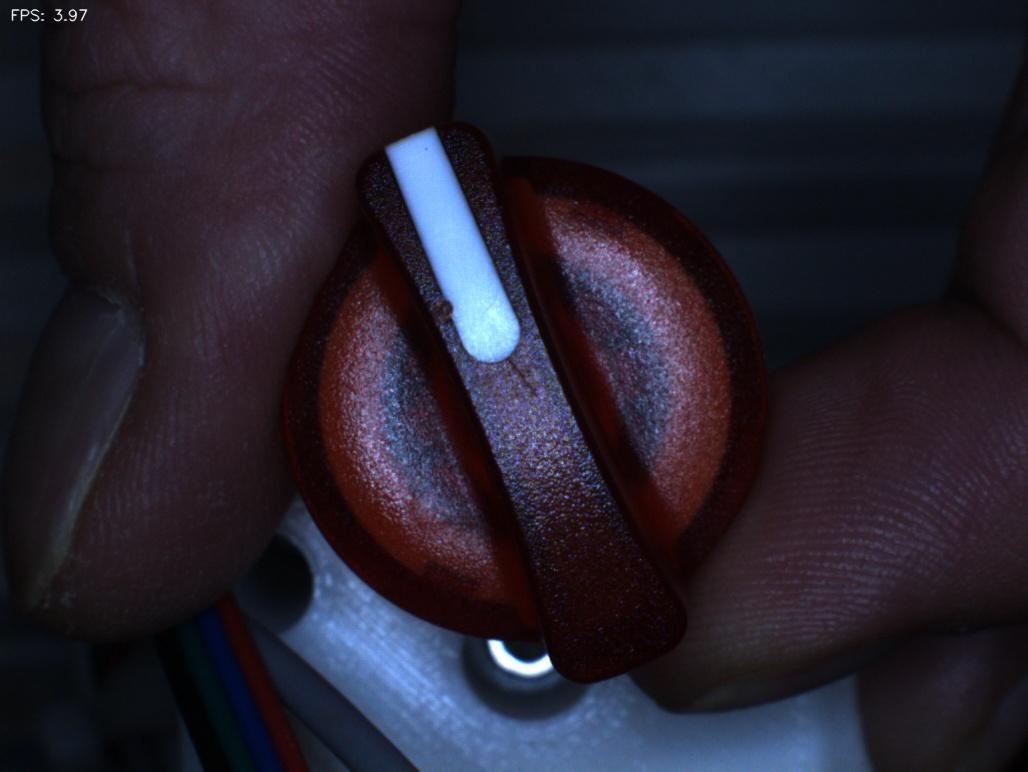Choc: (392, 272, 484, 344)
